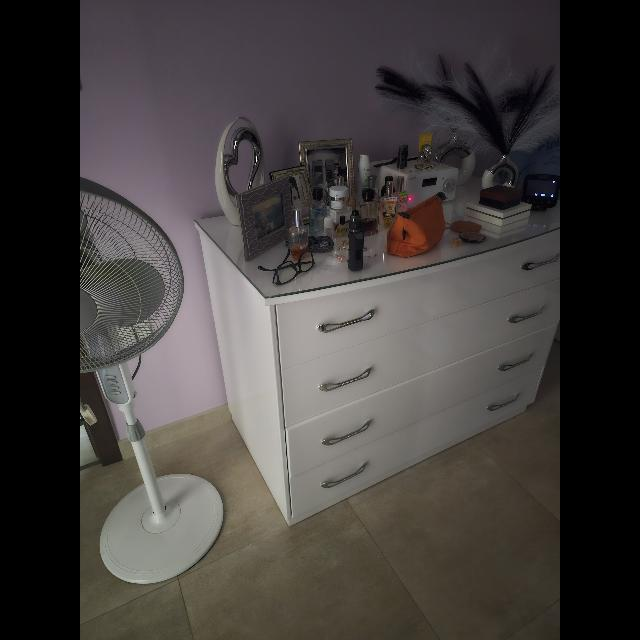glasses: (258, 248, 316, 286)
